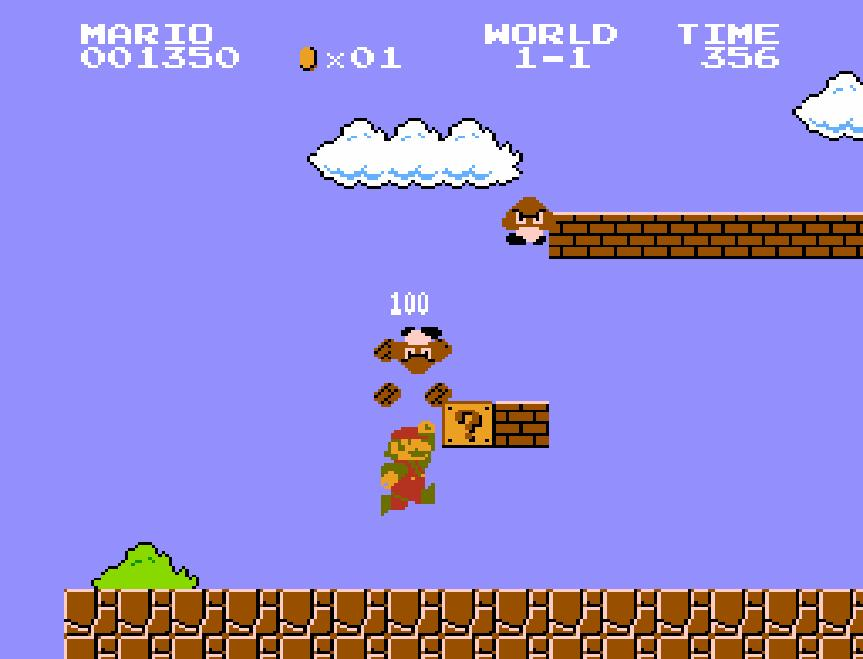big_mario: (379, 420, 437, 518)
